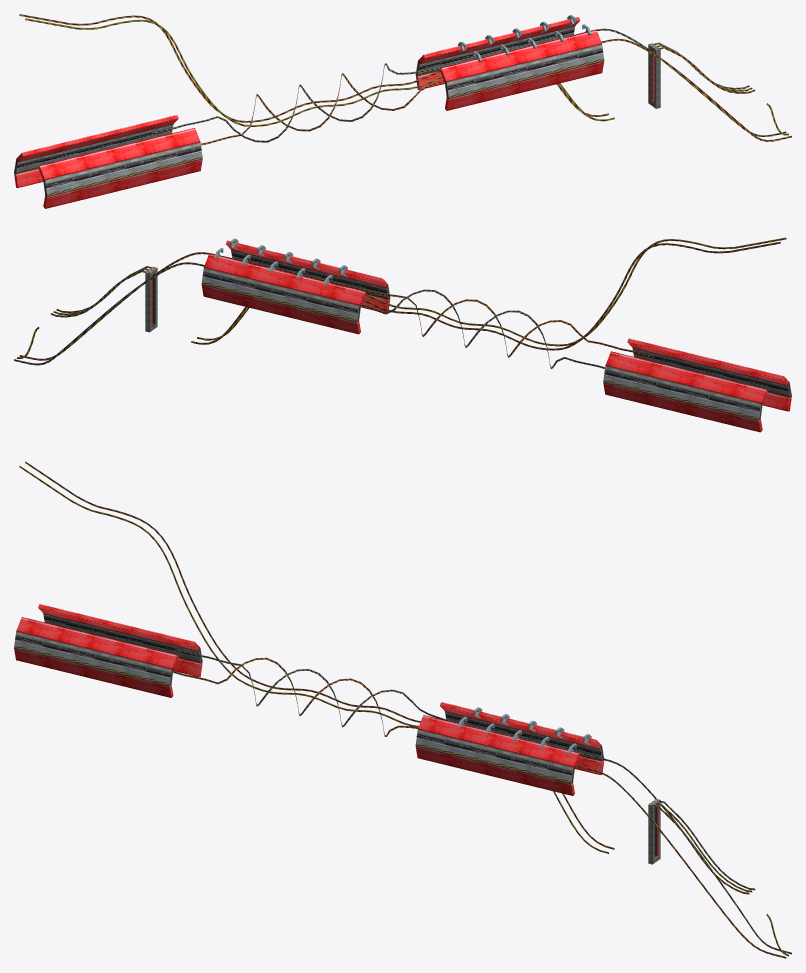
Rendered from railcanyon5.obj.
The picture shows the model from 3 angles, top to bottom: view 1: azimuth 30°, elevation 25°; view 2: azimuth 150°, elevation 25°; view 3: azimuth 330°, elevation 25°; orthographic projection.
Visible parts, largest first — view 1: Object_2, obj1; view 2: Object_2, obj1; view 3: Object_2.
Boxes of the visible parts, bbox=[...] form: Object_2: bbox=[14, 14, 791, 208]; obj1: bbox=[648, 43, 660, 108]; Object_2: bbox=[14, 237, 791, 432]; obj1: bbox=[145, 266, 157, 332]; Object_2: bbox=[14, 461, 791, 958].
Size of the model in its own units: 4489 by 1712 by 338.
12 materials, 11 textured.
